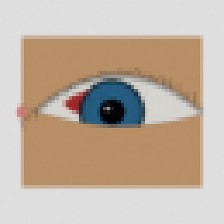hemorrhage_spot: (54, 68, 143, 139)
